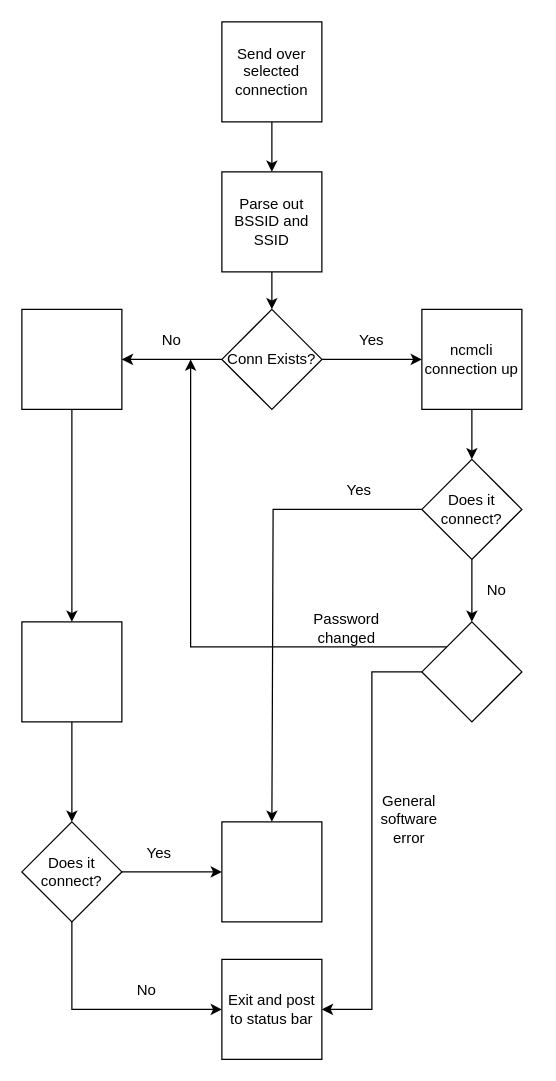
Image size: 556x1081. Some labels were removed from this diagram. The centre of each missing label's shape, as x and y in pixels:
"Complete" belongs at [271,871].
"nmcli device wifi connect" belongs at [71,671].
"Password enter dialogue (leave blank for none)" belongs at [71,358].
"Why?" belongs at [471,671].
